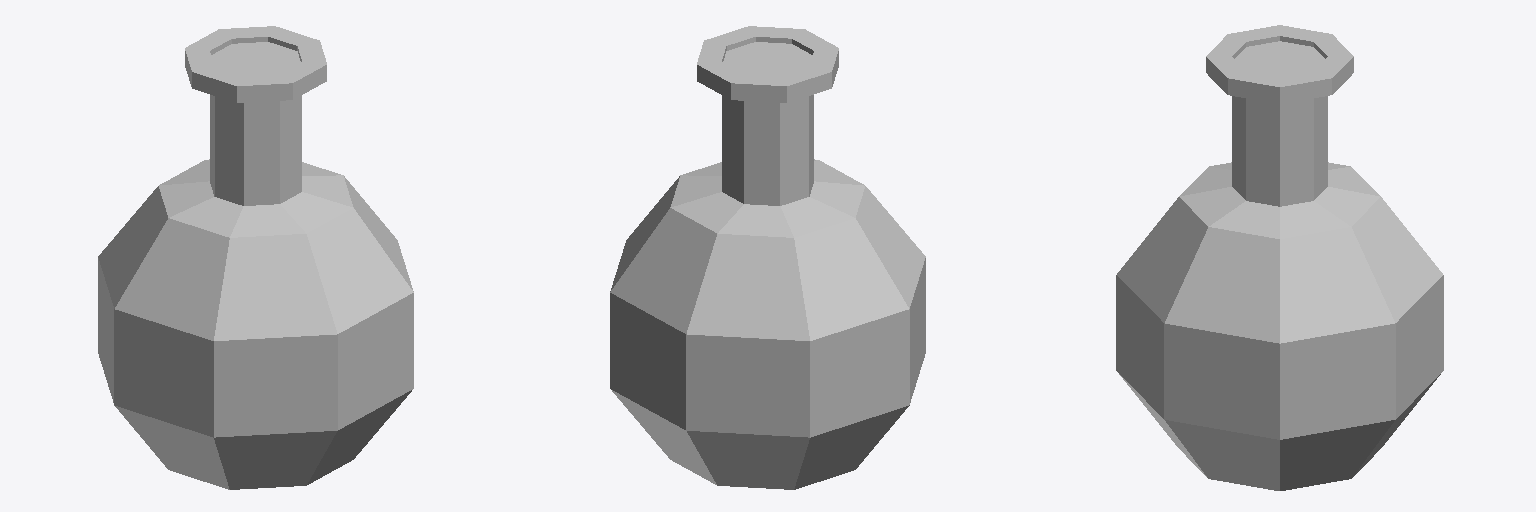
Rendered from Flask.obj.
3 views of the same model, side by side, from view 1: azimuth 30°, elevation 25°; view 2: azimuth 150°, elevation 25°; view 3: azimuth 270°, elevation 25° (orthographic).
Visible parts, largest first — view 1: Sphere; view 2: Sphere; view 3: Sphere.
Boxes of the visible parts, x1,y1,x2,y2 form: Sphere: [98, 26, 413, 489]; Sphere: [610, 26, 925, 489]; Sphere: [1116, 25, 1443, 490].
Bounding box in the file's own units: 1.9 × 2.56 × 1.9.